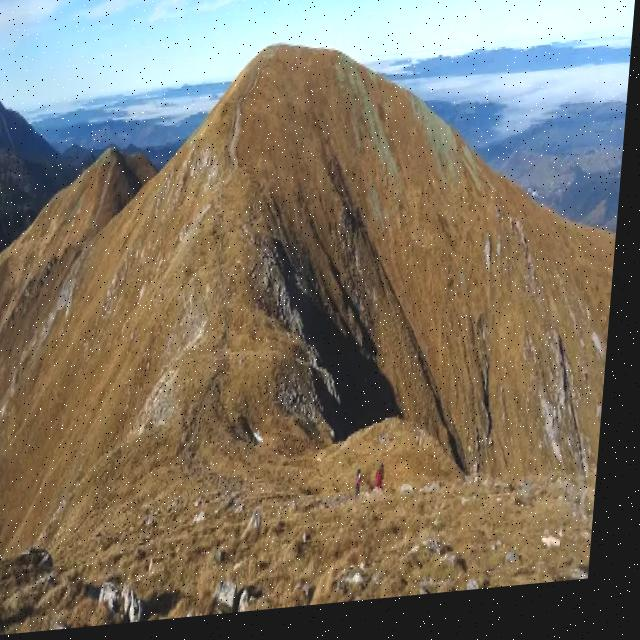Kopa Kondracka: (69, 82, 153, 207)
Malolaczniak: (185, 0, 364, 137)
